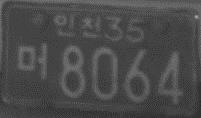0: (91, 46, 119, 100)
3: (103, 15, 123, 41)
4: (157, 50, 183, 106)
5: (125, 16, 145, 42)
6: (123, 47, 151, 102)
8: (59, 45, 87, 97)
머: (16, 42, 48, 80)
인천_O: (52, 13, 102, 40)
